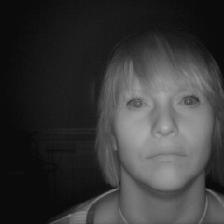normal: (94, 36, 224, 191)
